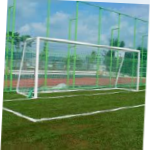goals: (15, 34, 142, 100)
